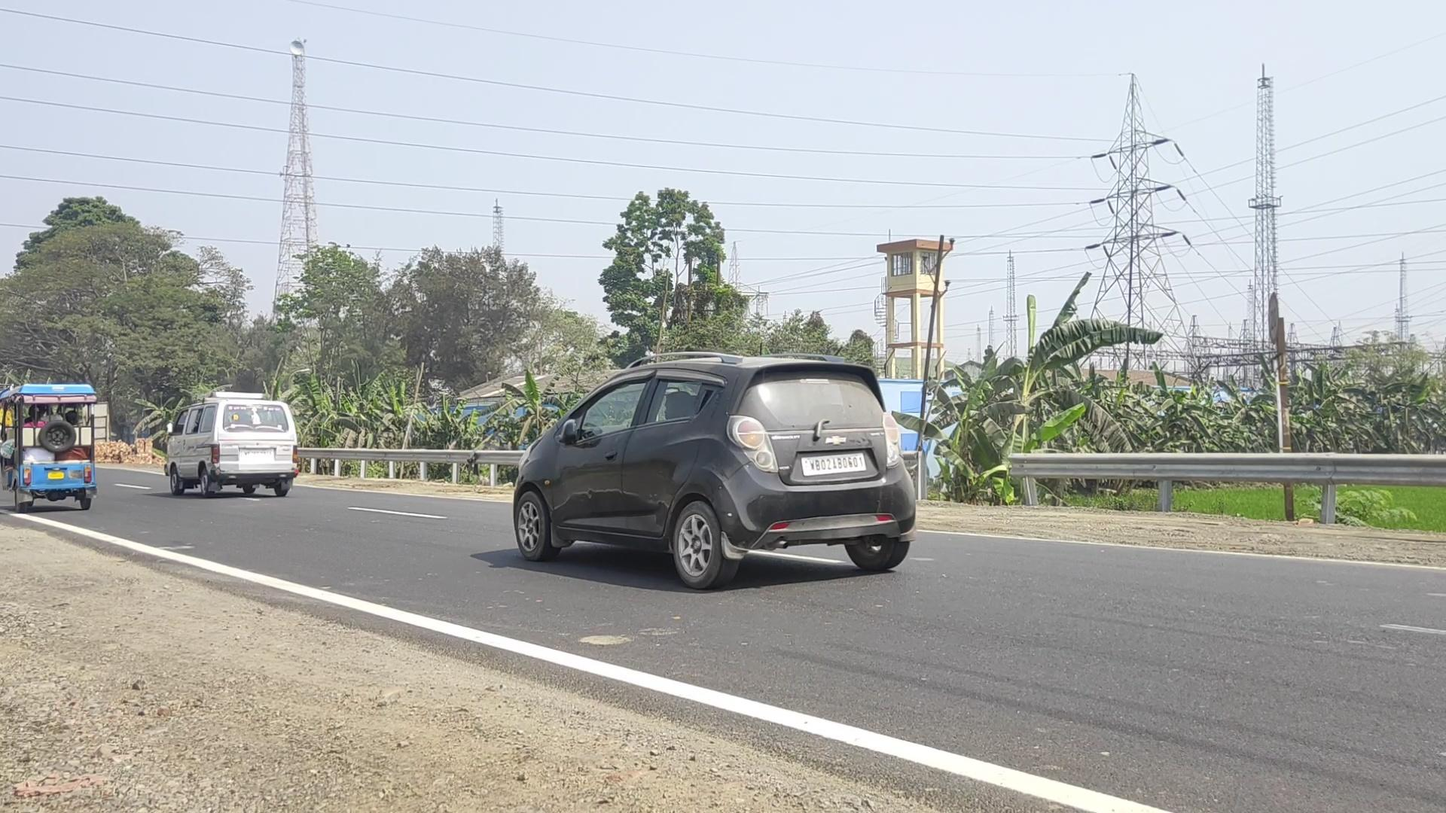Auto: (1, 384, 98, 513)
car: (512, 352, 918, 591)
van: (163, 391, 300, 499)
